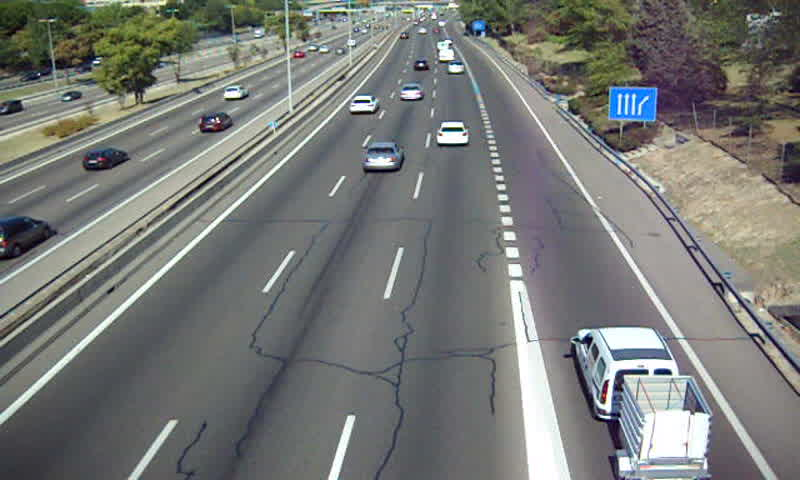car: (363, 142, 403, 173), (436, 121, 469, 146), (348, 95, 379, 116), (398, 84, 425, 102), (447, 61, 466, 75), (412, 60, 429, 74)
van: (573, 326, 681, 420)
